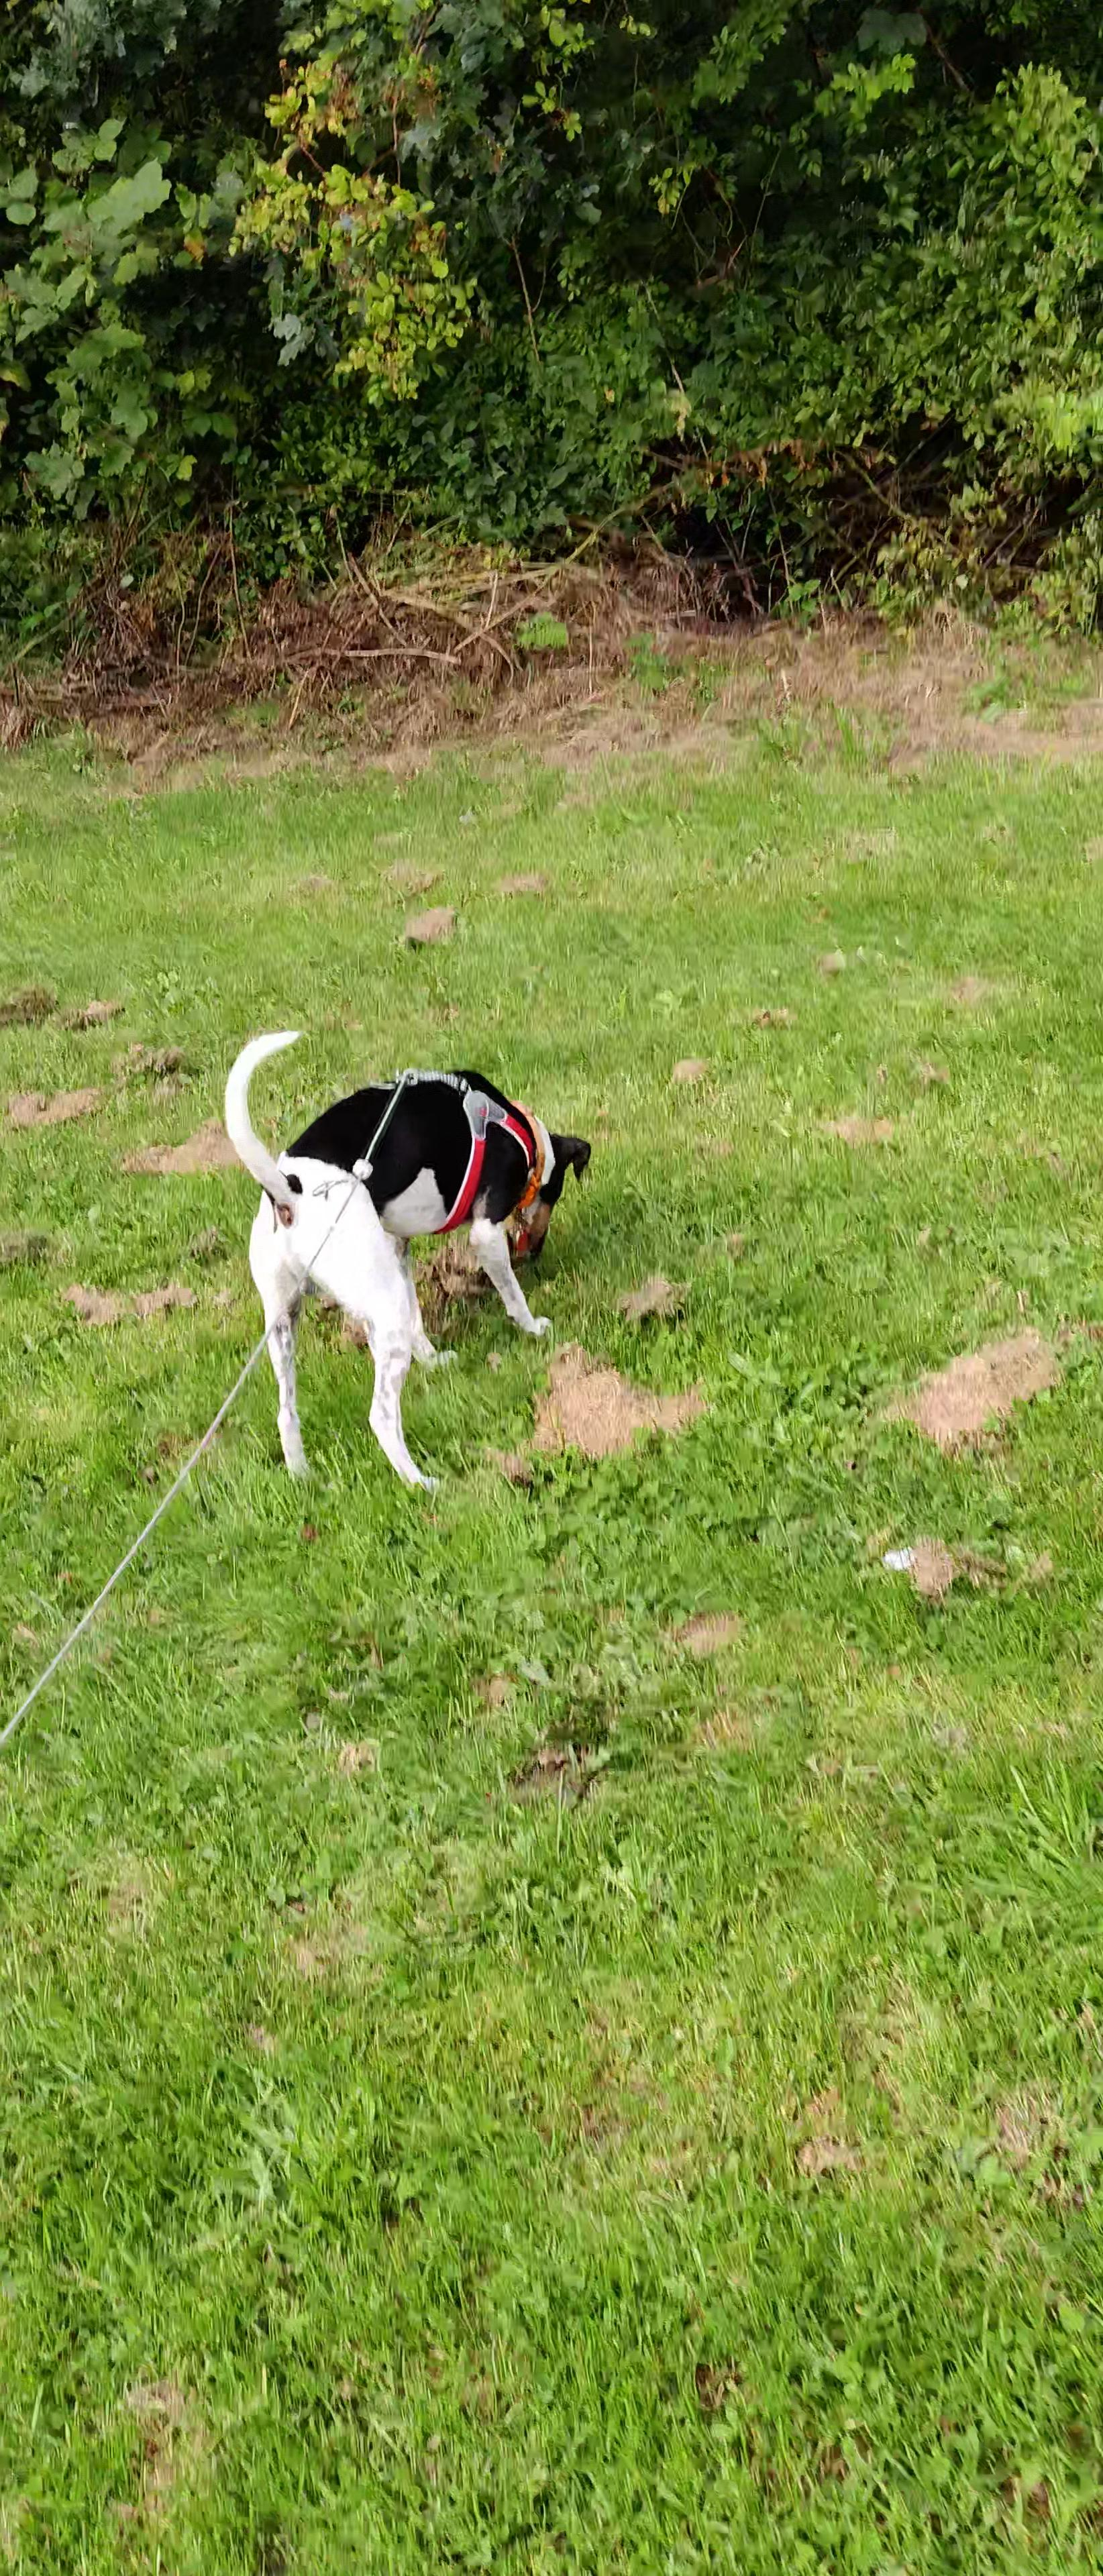Dog: (204, 1005, 626, 1505)
